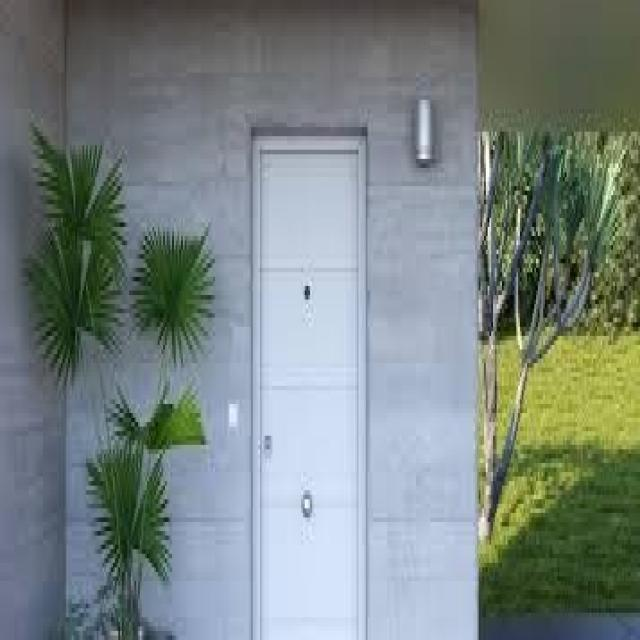door: (252, 129, 366, 638)
